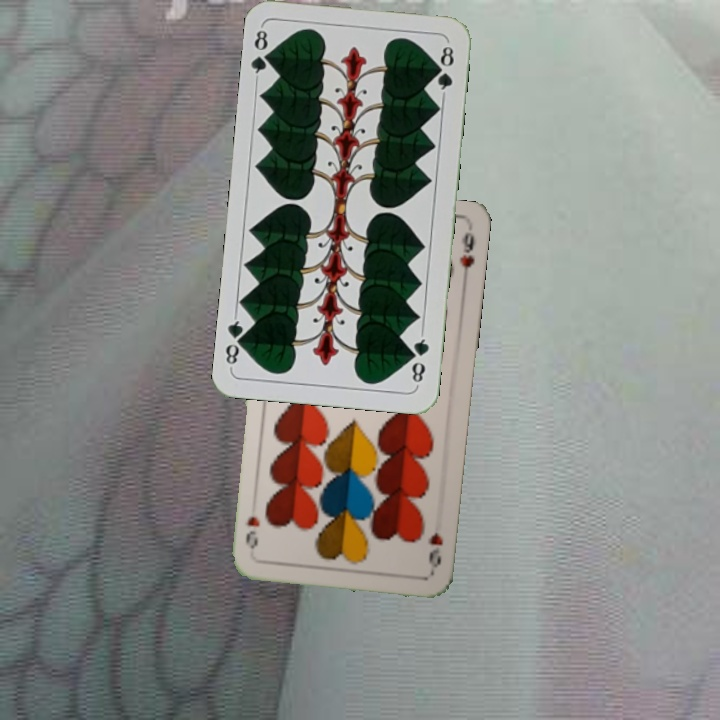G8: (247, 23, 276, 82), (407, 329, 432, 388)
H9: (424, 528, 446, 570)
